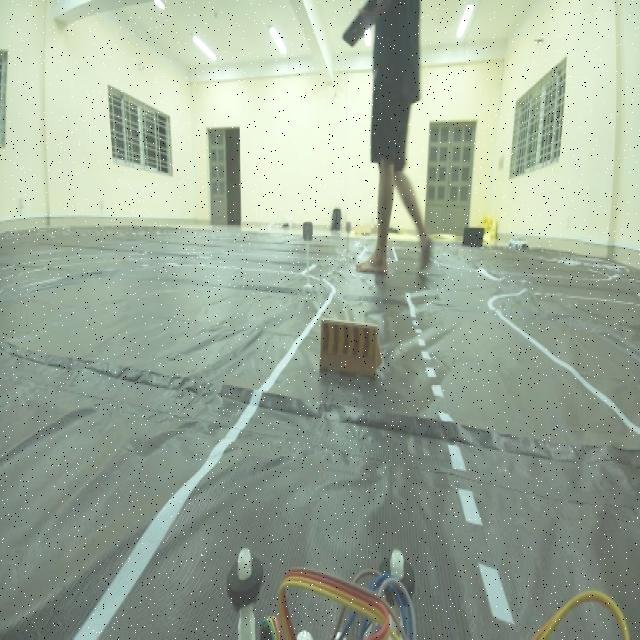roadblock: (312, 306, 390, 388)
